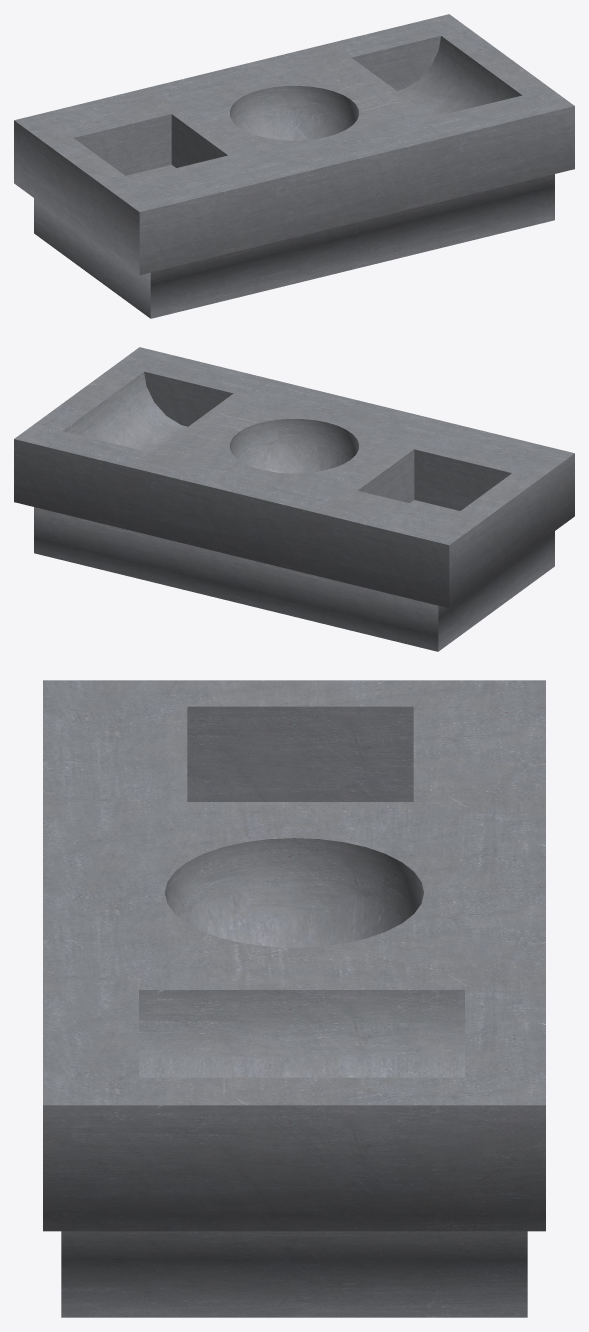
The model's file is GameTable.FBX.
3 renders of one model, top to bottom at view 1: azimuth 30°, elevation 25°; view 2: azimuth 150°, elevation 25°; view 3: azimuth 270°, elevation 25°, orthographic. The views are drawn at different scales.
Visible parts, largest first — view 1: Box001; view 2: Box001; view 3: Box001.
Part boxes in pixels (x1,y1,x2,y2): Box001: (14,14,574,318); Box001: (14,347,574,651); Box001: (43,680,545,1317).
Size of the model in its own units: 200 by 49.93 by 100.
